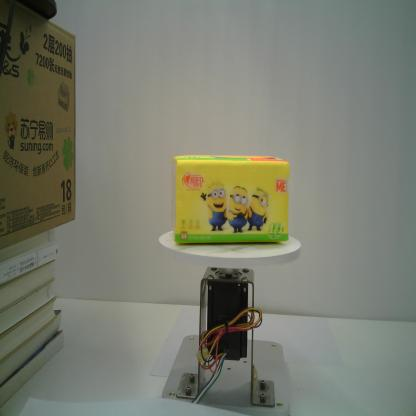Tissue: (167, 153, 290, 248)
